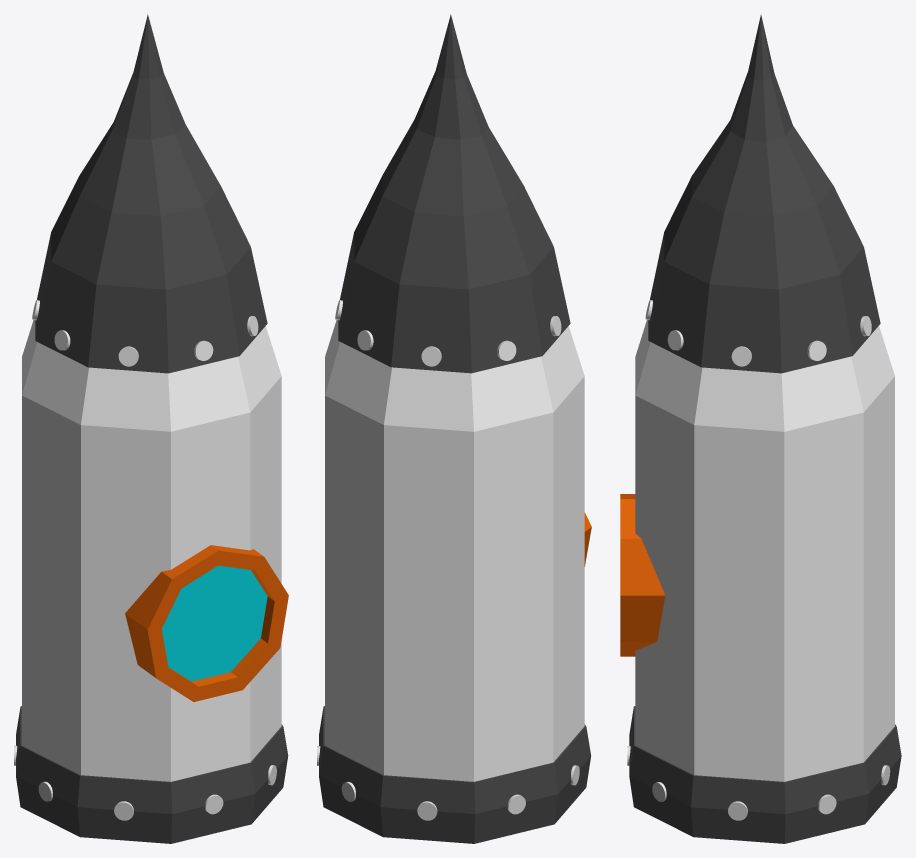
File: Rocket Head 1.fbx
3 views of the same model, side by side, from view 1: azimuth 30°, elevation 25°; view 2: azimuth 150°, elevation 25°; view 3: azimuth 270°, elevation 25° (orthographic).
Parts seen in each view (by area): view 1: Окружность.019; view 2: Окружность.019; view 3: Окружность.019.
Boxes of the visible parts, <box> form: Окружность.019: <box>14,14,288,843</box>; Окружность.019: <box>317,14,591,843</box>; Окружность.019: <box>620,14,901,843</box>.
Size of the model in its own units: 207 by 637 by 210.
